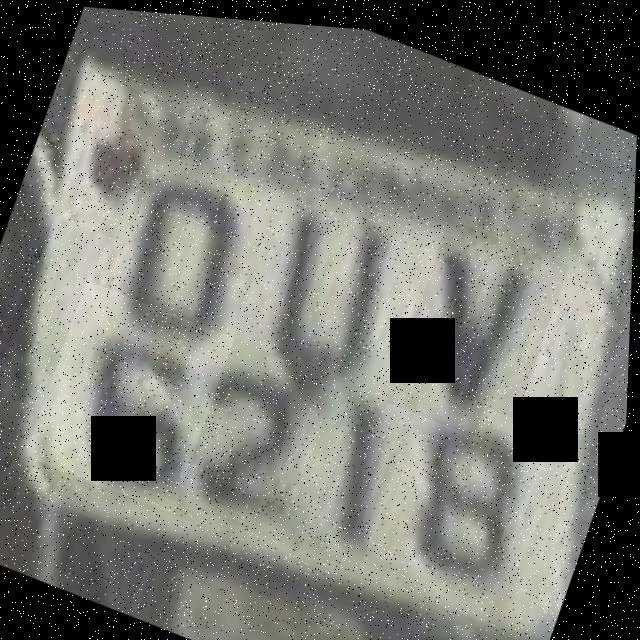1: (285, 373, 417, 554)
2: (137, 315, 359, 547)
6: (27, 275, 237, 513)
B: (361, 371, 556, 618)
O: (100, 128, 286, 351)
U: (229, 162, 435, 409)
V: (386, 208, 572, 443)
